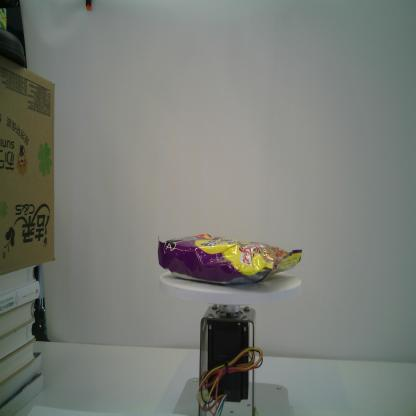Instant Noodles: (156, 231, 303, 287)
